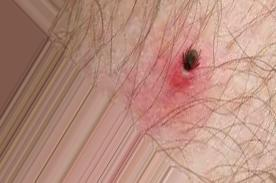Tick: (137, 22, 235, 151)
